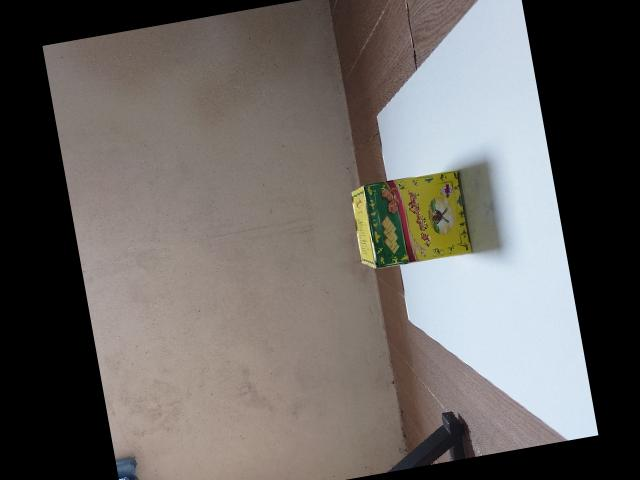luong_kho: (351, 169, 472, 267)
